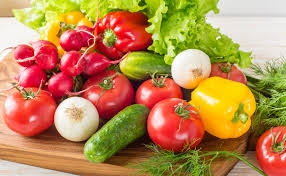kitchen_waste: (141, 1, 251, 68), (81, 99, 152, 169), (189, 74, 258, 142), (133, 141, 252, 176), (90, 8, 156, 62), (146, 98, 209, 154), (2, 88, 62, 140), (80, 71, 140, 120), (248, 51, 286, 128), (53, 94, 105, 142), (167, 49, 219, 92), (132, 73, 191, 108), (113, 48, 180, 77), (250, 123, 286, 176), (33, 37, 64, 73), (17, 61, 50, 91), (48, 72, 76, 99), (13, 42, 40, 68), (59, 29, 86, 55), (58, 51, 87, 74), (75, 22, 97, 48)
